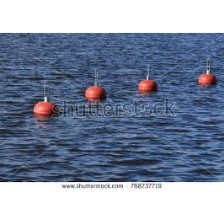buoy: (34, 101, 59, 121), (85, 86, 105, 102), (198, 73, 217, 87), (139, 81, 157, 94)
